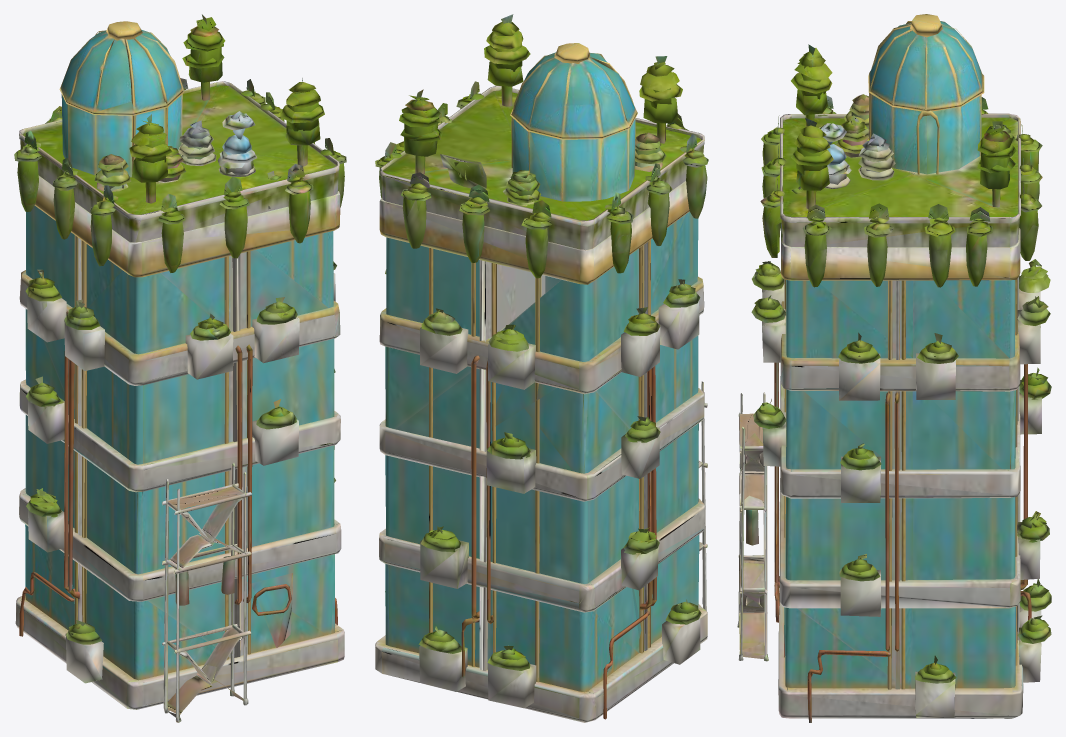
Rendered from glass-tower.glb.
3 renders of one model, left to right at view 1: azimuth 30°, elevation 25°; view 2: azimuth 150°, elevation 25°; view 3: azimuth 270°, elevation 25°, orthographic.
Parts seen in each view (by area): view 1: glass-tower; view 2: glass-tower; view 3: glass-tower.
Part boxes in pixels (left/top/right/bottom): glass-tower: left=14, top=14, right=346, bottom=722; glass-tower: left=375, top=14, right=708, bottom=722; glass-tower: left=737, top=14, right=1051, bottom=722.
Size of the model in its own units: 5 by 11 by 5.
1 material, 1 textured.
